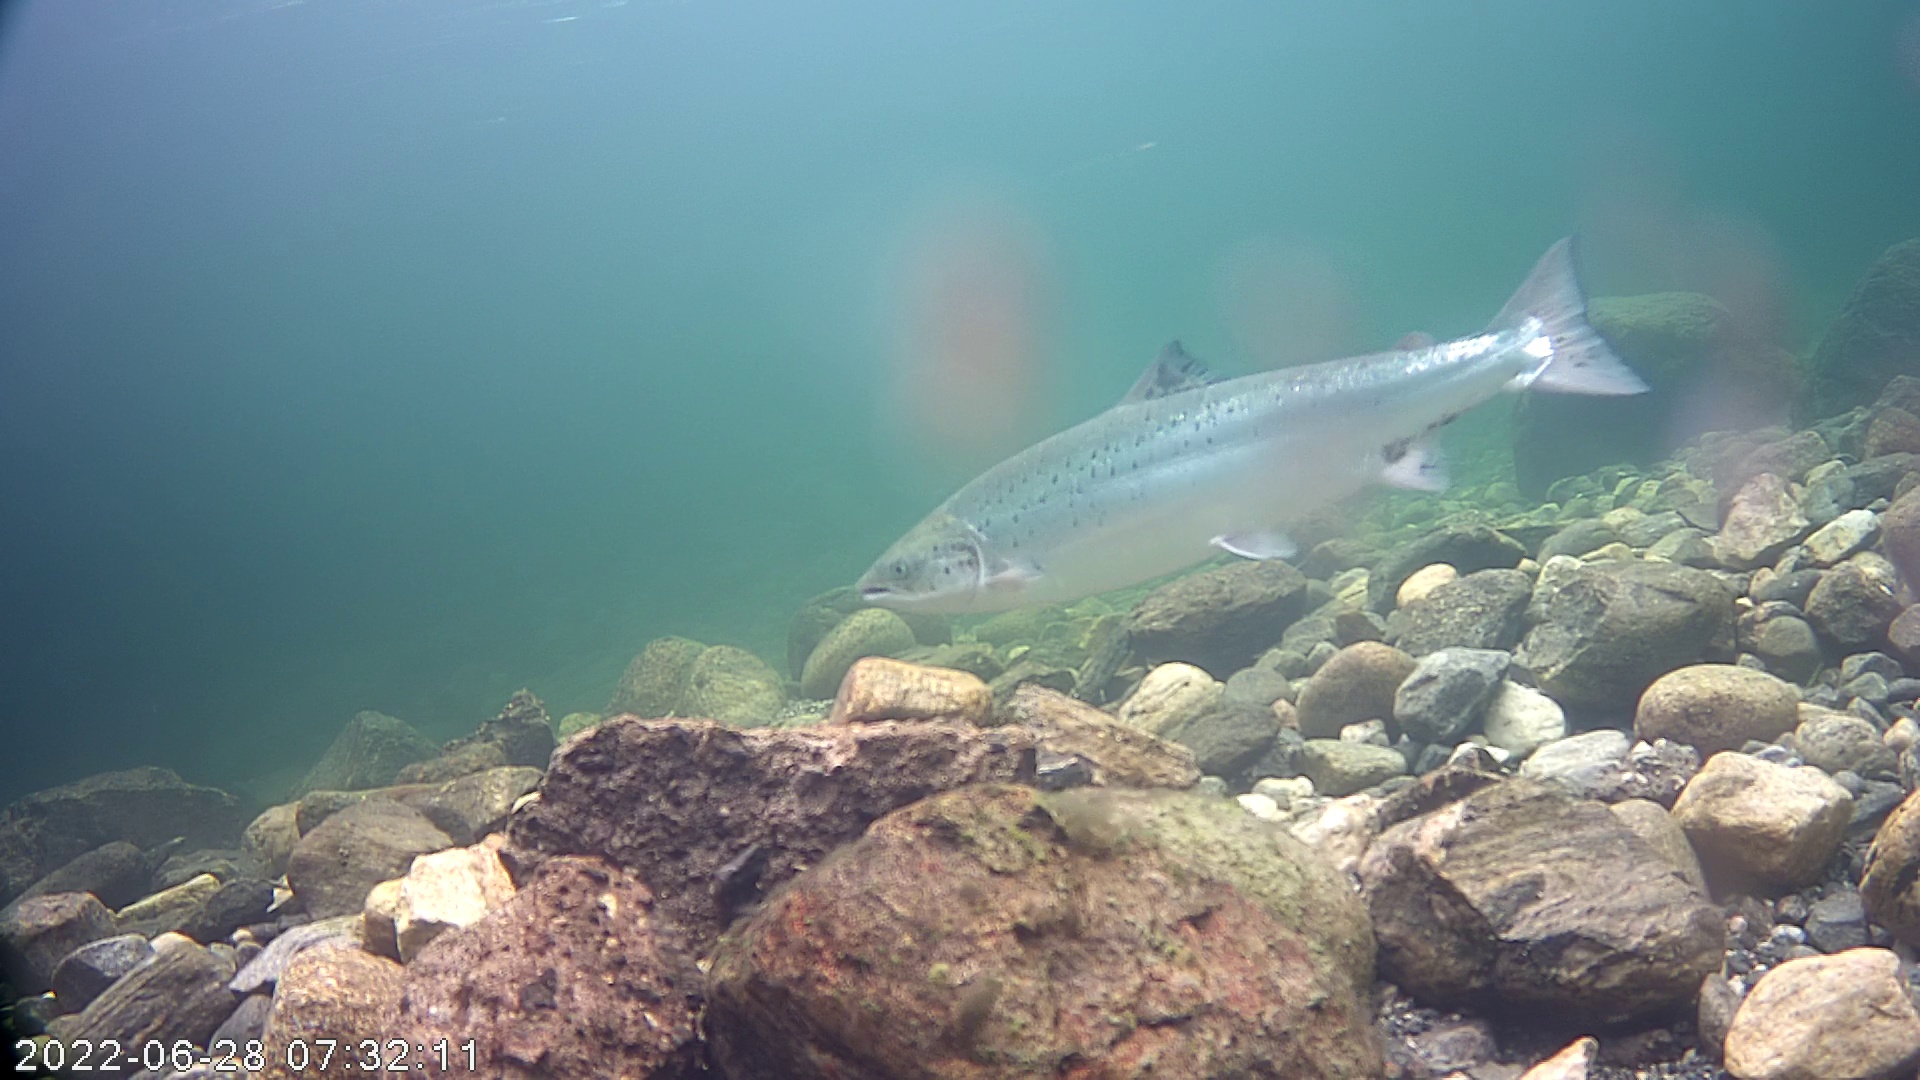salmon: (853, 207, 1683, 638)
